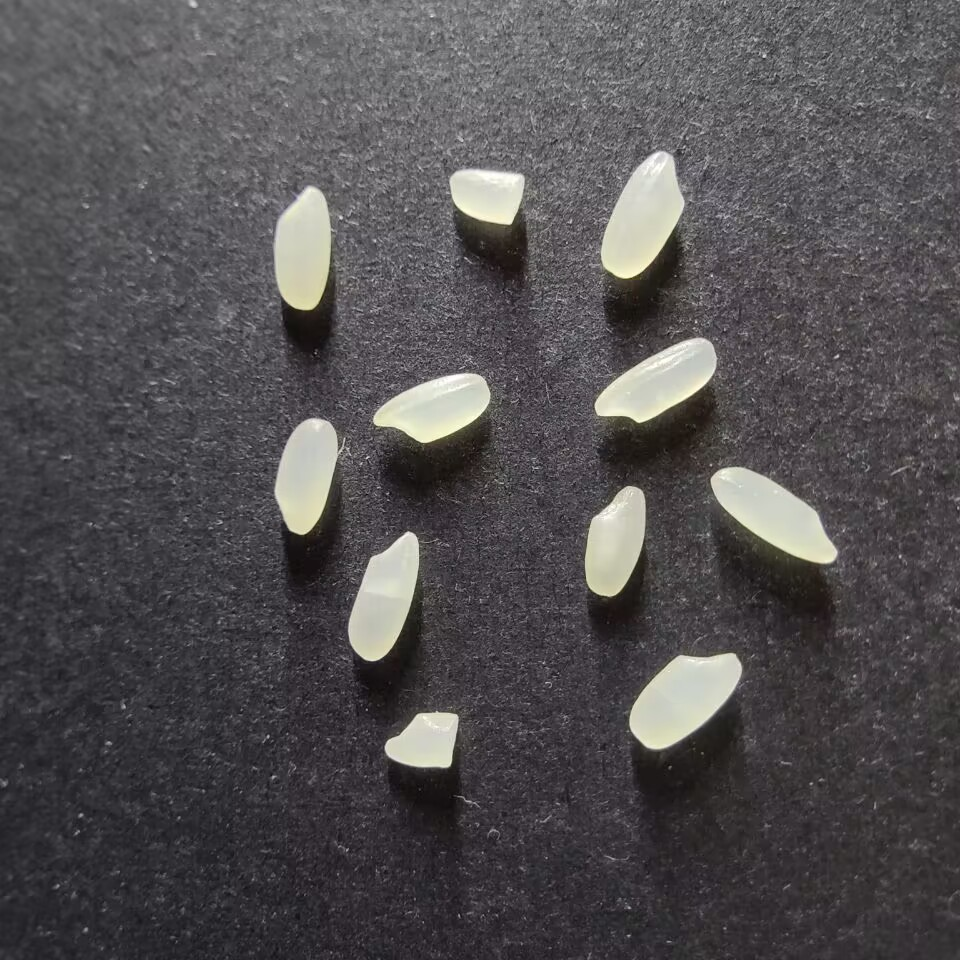broken: (383, 710, 459, 770), (448, 168, 524, 226)
rice: (709, 466, 838, 565), (628, 652, 742, 750), (600, 151, 685, 279), (593, 336, 716, 423), (346, 530, 420, 661), (371, 371, 490, 444), (272, 417, 337, 535), (272, 187, 331, 311), (584, 484, 645, 597)
